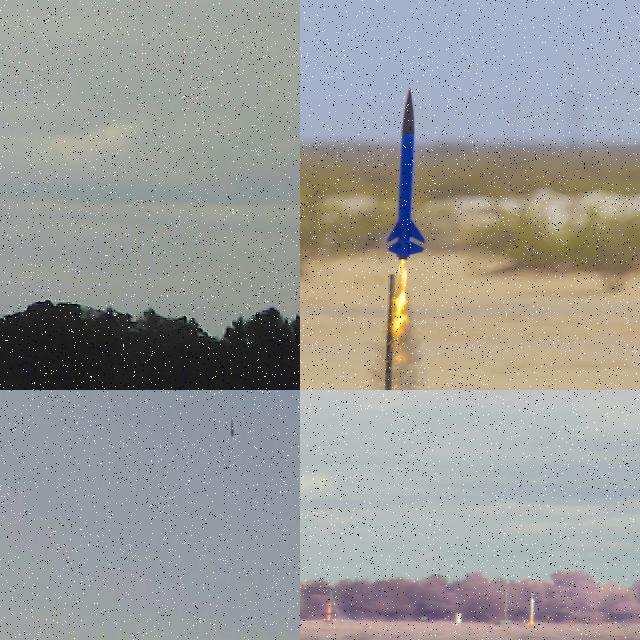Rocket: (384, 87, 430, 260), (526, 598, 536, 626), (325, 601, 333, 623), (230, 419, 234, 436)
